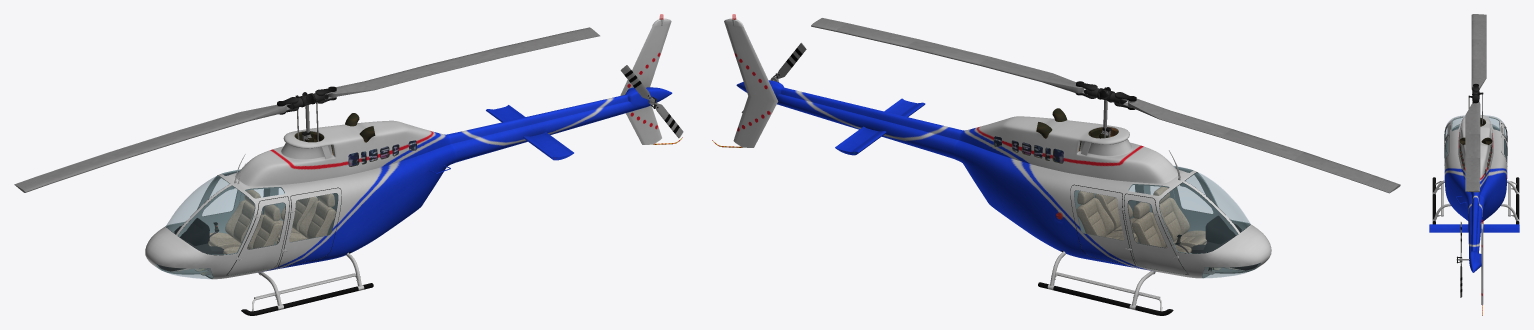
File: petit helico.glb
3 renders of one model, left to right at view 1: azimuth 30°, elevation 25°; view 2: azimuth 150°, elevation 25°; view 3: azimuth 270°, elevation 25°, orthographic. The views are drawn at different scales.
Parts seen in each view (by area): view 1: Object_30, Object_28, Object_21, Object_37, Object_29, Object_18, Object_27, Object_26, Object_36, Object_7, Object_10; view 2: Object_30, Object_28, Object_21, Object_36, Object_29, Object_37, Object_18, Object_26, Object_27, Object_7; view 3: Object_30, Object_21, Object_28, Object_29, Object_18, Object_37, Object_36, Object_10.
Part boxes in pixels (x1,y1,x2,y2): Object_30: (145, 105, 573, 279); Object_28: (241, 18, 682, 315); Object_21: (14, 27, 599, 192); Object_37: (157, 14, 663, 278); Object_29: (227, 113, 375, 311); Object_18: (155, 169, 350, 278); Object_27: (208, 189, 335, 249); Object_26: (223, 196, 317, 254); Object_36: (166, 171, 284, 278); Object_7: (157, 218, 223, 271); Object_10: (620, 65, 683, 138); Object_30: (835, 98, 1271, 278); Object_28: (712, 18, 1173, 315); Object_21: (811, 18, 1400, 193); Object_36: (1075, 167, 1249, 277); Object_29: (1036, 108, 1187, 311); Object_37: (732, 14, 1259, 277); Object_18: (1061, 166, 1260, 278); Object_26: (1076, 186, 1206, 247); Object_27: (1095, 194, 1191, 252); Object_7: (1191, 215, 1259, 270); Object_30: (1429, 115, 1519, 232); Object_21: (1465, 14, 1486, 192); Object_28: (1432, 118, 1519, 315); Object_29: (1435, 123, 1516, 216); Object_18: (1444, 117, 1507, 166); Object_37: (1445, 115, 1506, 223); Object_36: (1445, 116, 1506, 157); Object_10: (1456, 222, 1469, 297).
Bounding box in the file's own units: 11.86 × 3.07 × 2.04.
Materials: 36 (34 with a texture image).
